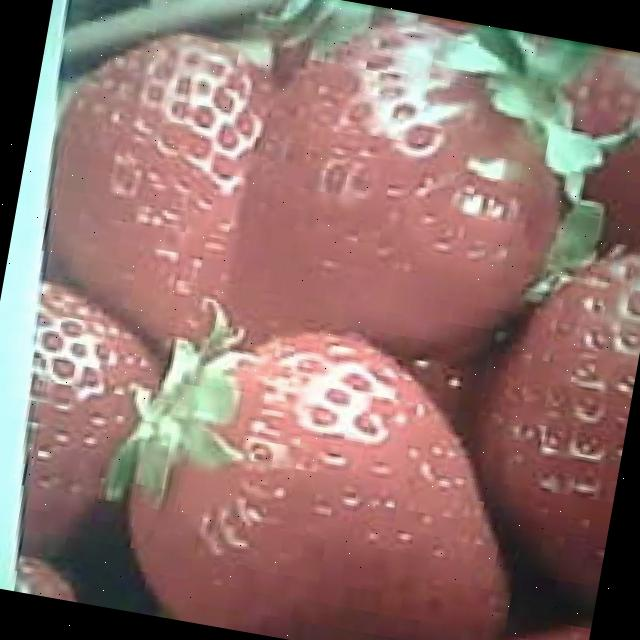strawberry: (107, 303, 545, 640), (222, 2, 585, 386)
